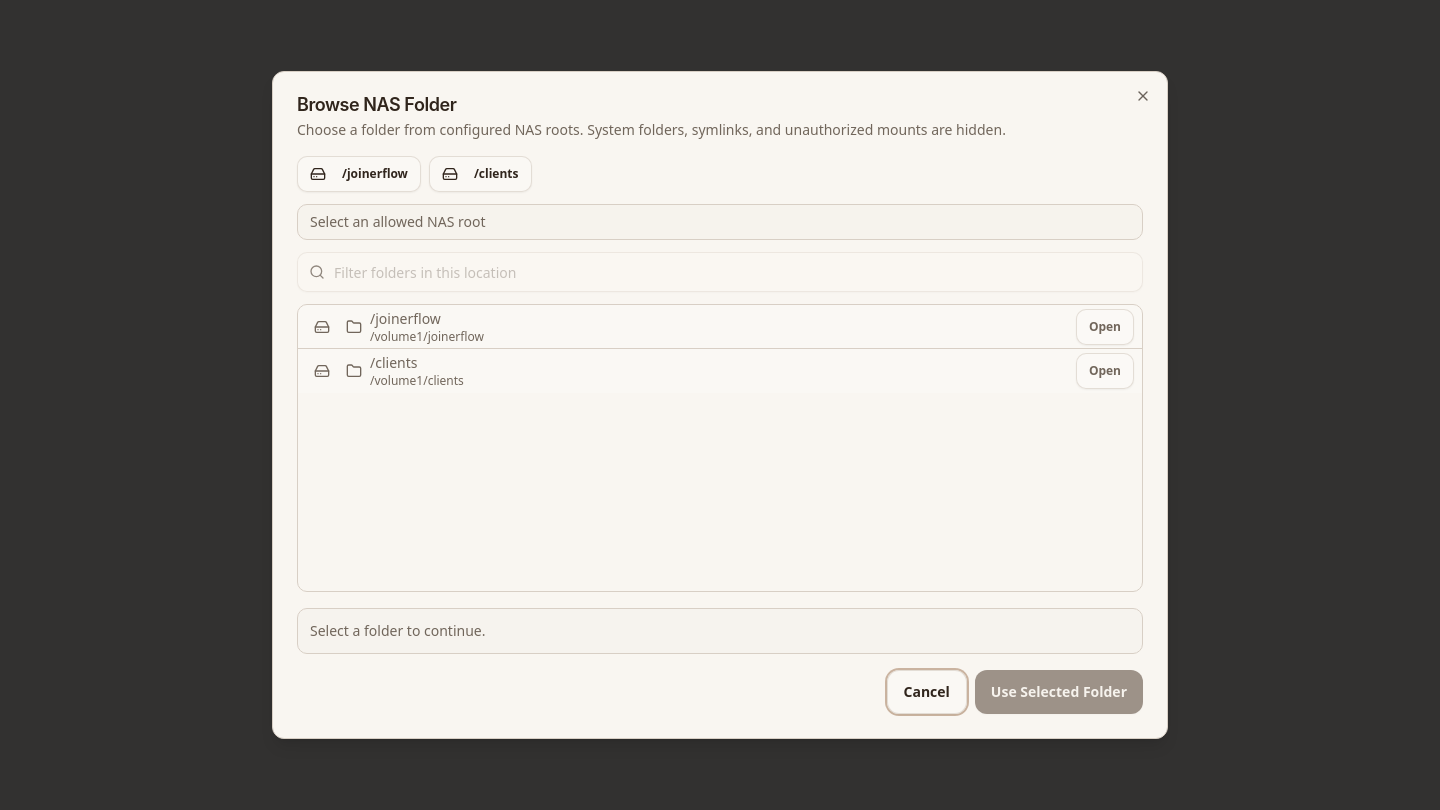
Scenario: FolderPickerModal › debounces filtering and blocks duplicate indexed paths
The image size is (1440, 810).
Step 1. Click the button named "open /joinerflow" → (322, 326), box top-left (306, 310), bottom-right (338, 342)
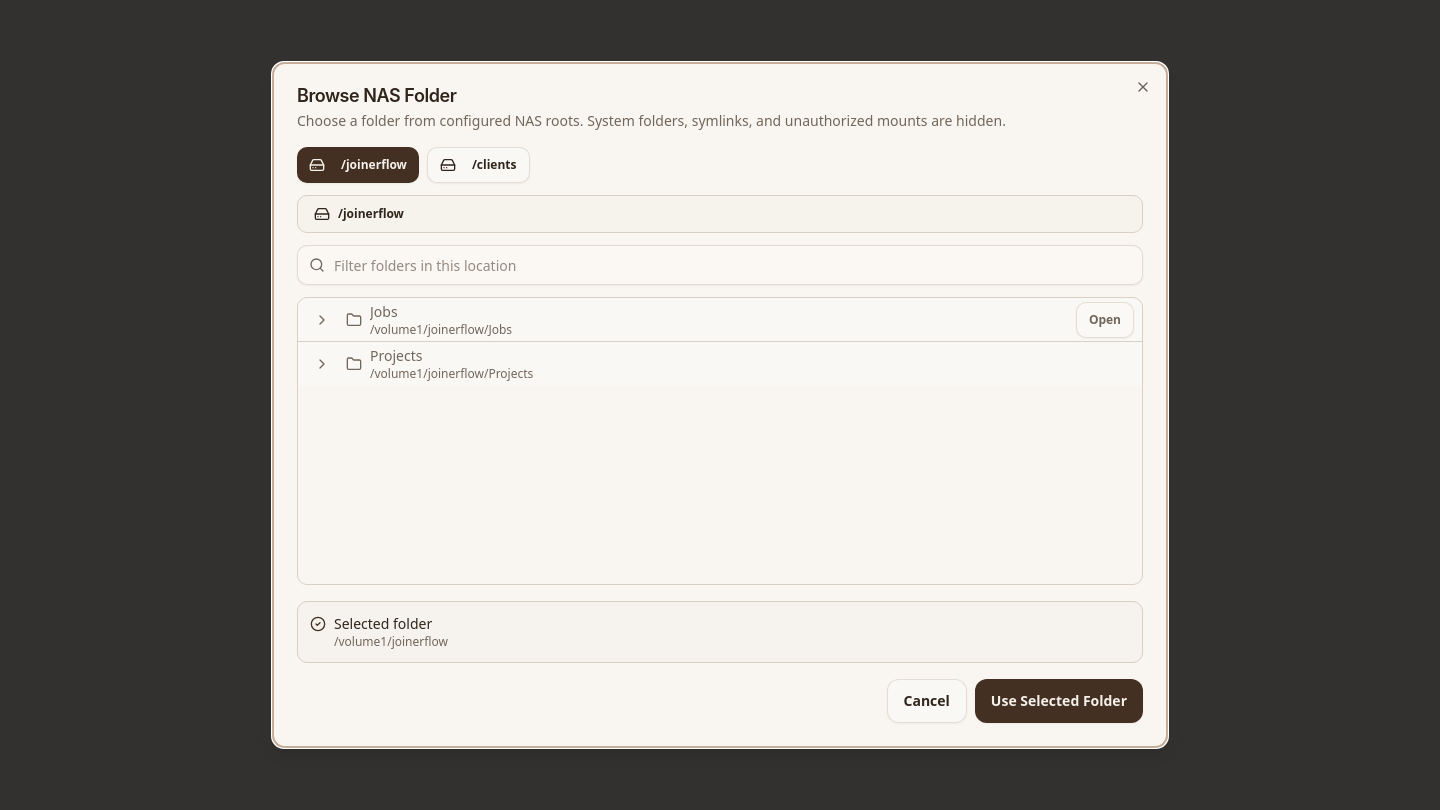
Step 2. Type "archive" into the field labelled "Filter folders in this location" → (720, 265), box top-left (297, 245), bottom-right (1143, 285)
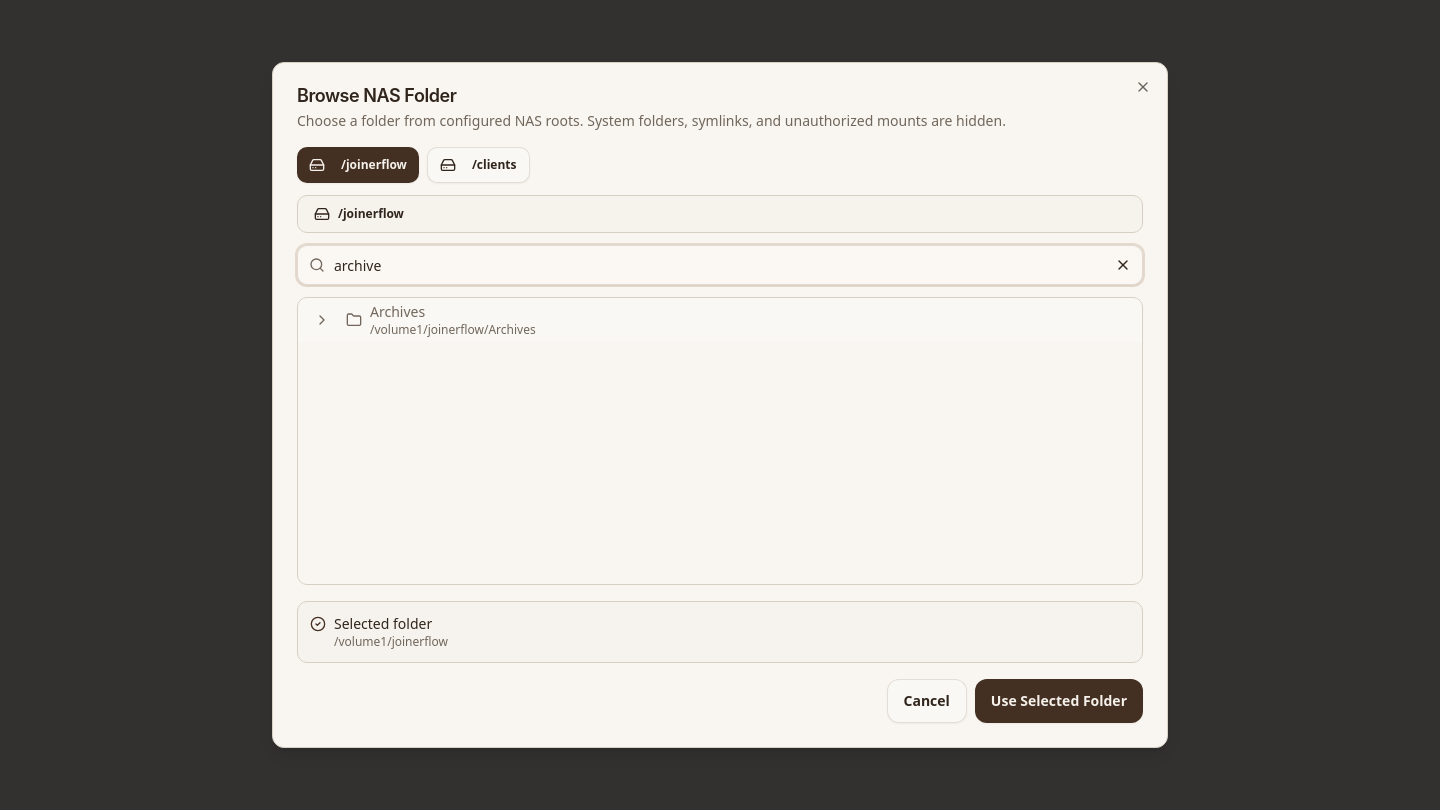
Now the text "Archives" is shown
Step 3. Click the text "Archives" → (398, 312), box top-left (370, 302), bottom-right (425, 321)
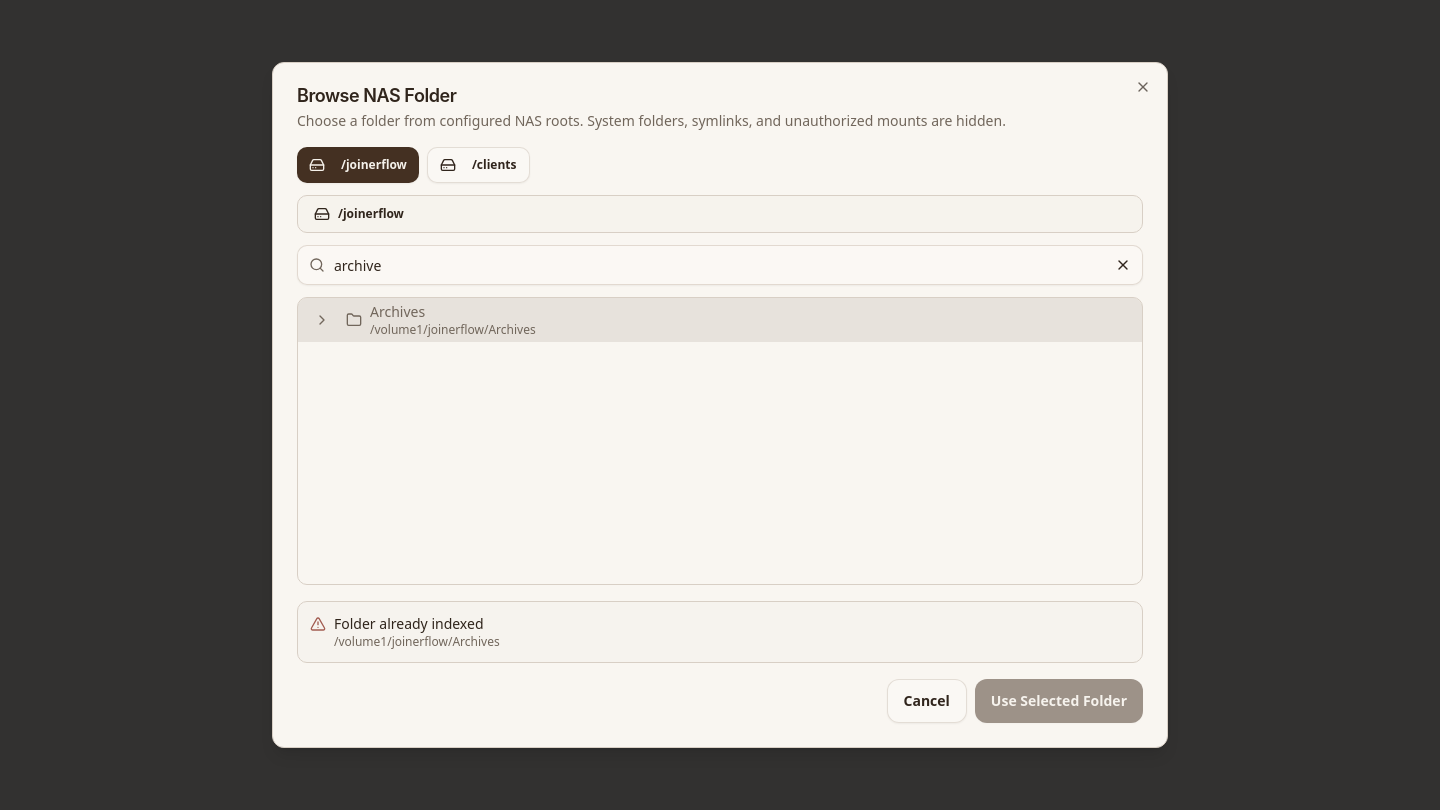
Now the text "Folder already indexed" is shown, box top-left (334, 614), bottom-right (500, 634)
Now the button "Use Selected Folder" is disabled, box top-left (975, 679), bottom-right (1143, 723)
